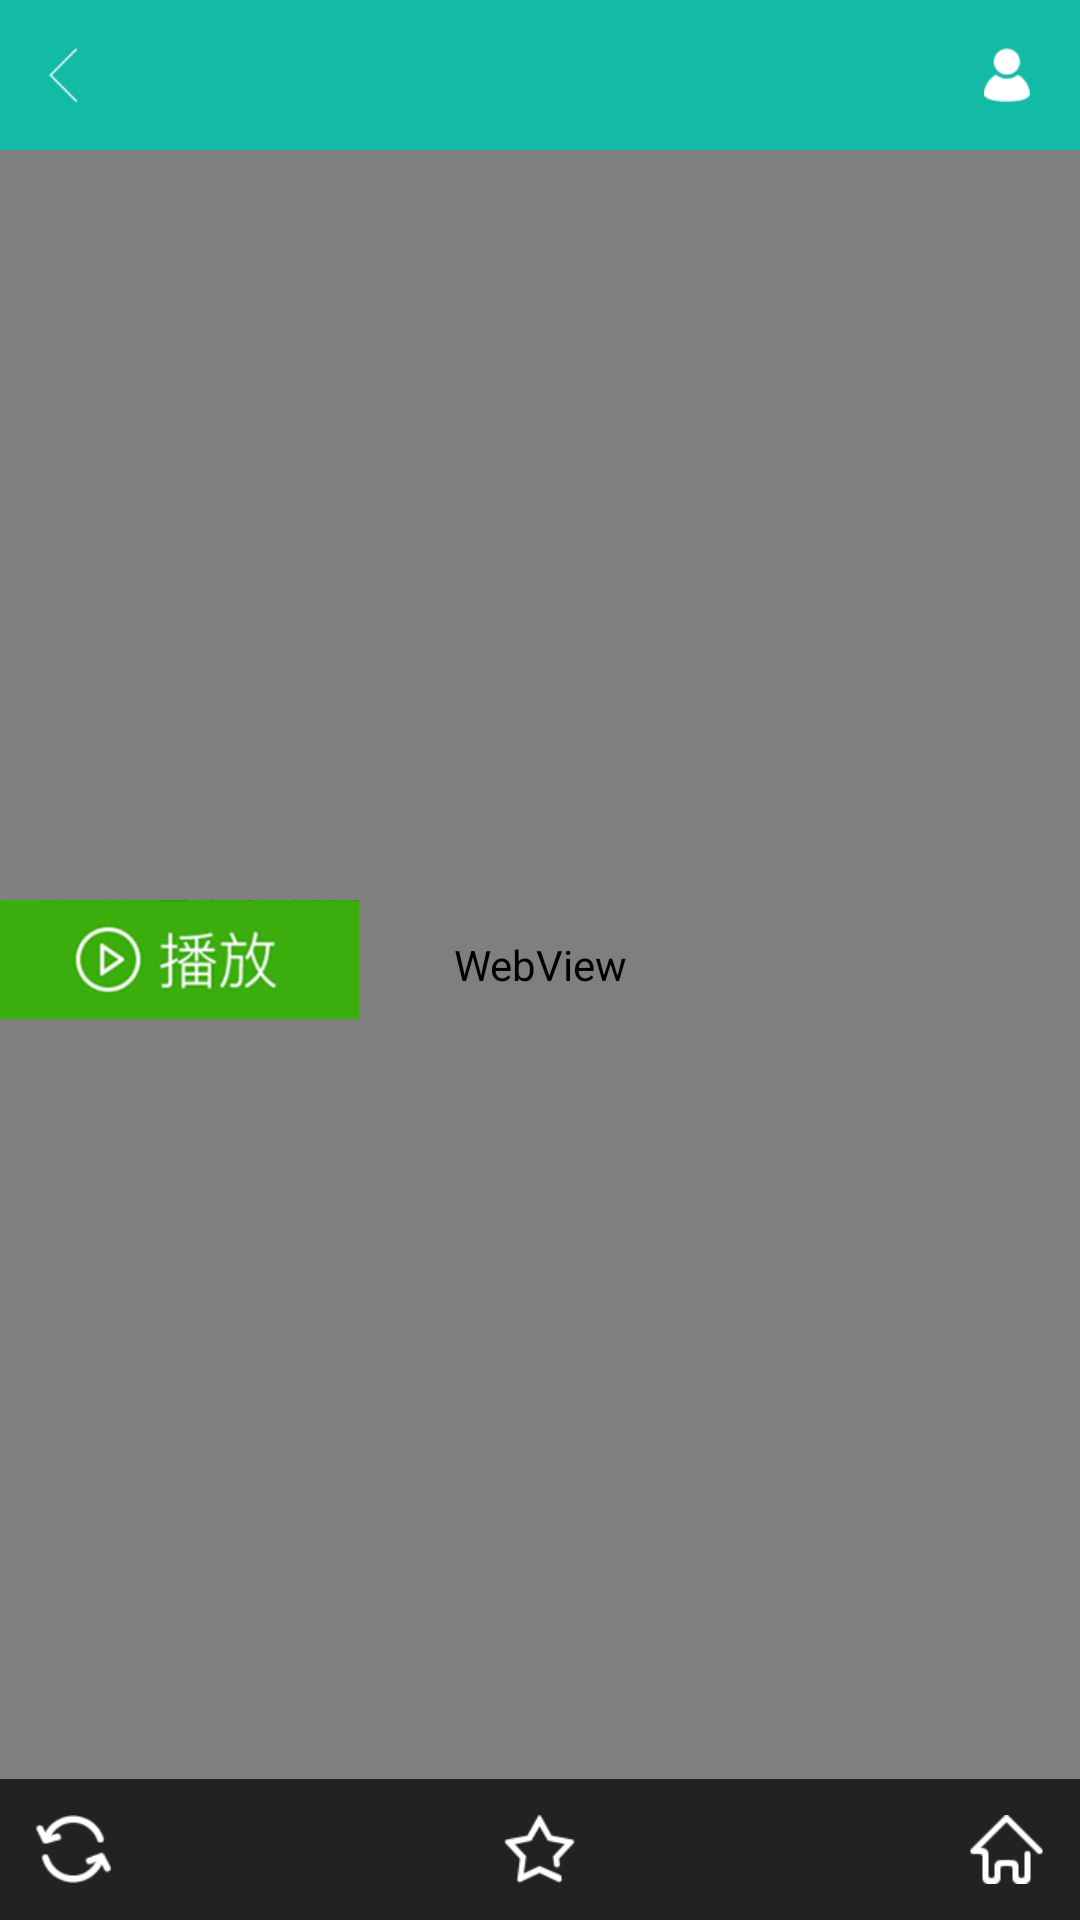

Screen size 1080px x 1920px. Icon name, then its box in pixels as bbox=(x1, y1, x2, y2):
back: bbox=(49, 48, 77, 102)
favourite: bbox=(504, 1815, 575, 1883)
home: bbox=(970, 1815, 1043, 1884)
refresh: bbox=(36, 1815, 111, 1883)
user: bbox=(984, 48, 1030, 102)
